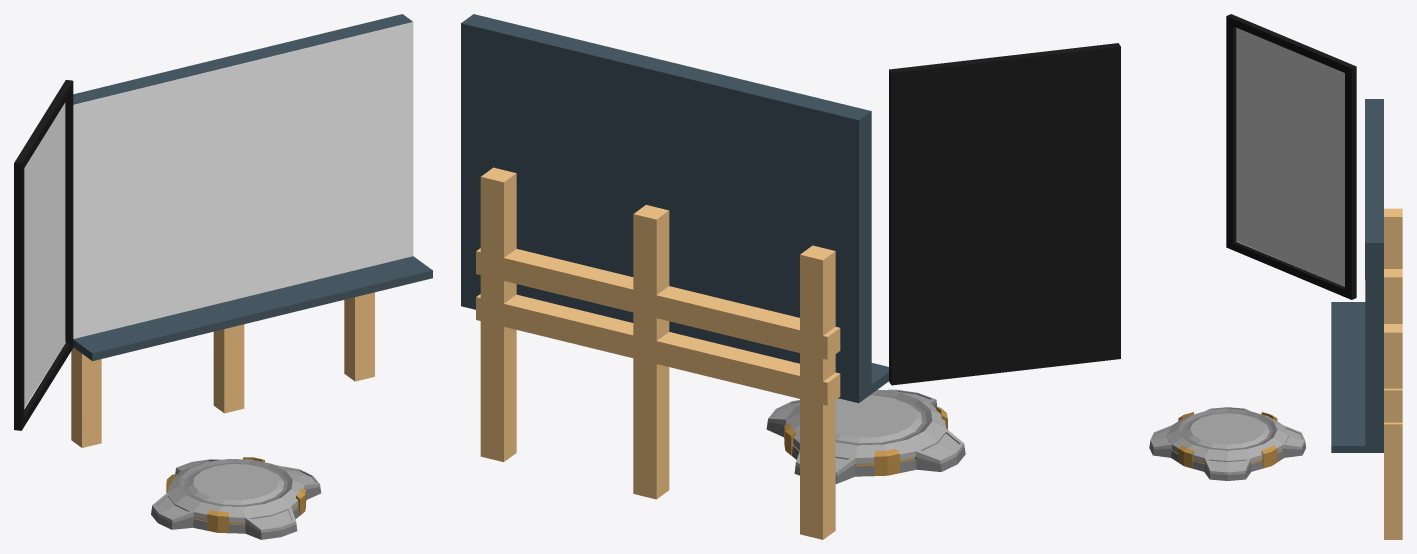
Rendered from billBoard.glb.
3 views of the same model, side by side, from view 1: azimuth 30°, elevation 25°; view 2: azimuth 150°, elevation 25°; view 3: azimuth 270°, elevation 25° (orthographic). The views are drawn at different scales.
Visible parts, largest first — view 1: billboard.001, billboard, Props_Base, billboard.002, sidescreenScreen; view 2: billboard, sidescreenScreen, Props_Base; view 3: billboard.002, billboard, Props_Base, sidescreenScreen.
Boxes of the visible parts, <box> form: billboard.001: <box>73,22,413,338</box>; billboard: <box>65,14,432,447</box>; Props_Base: <box>151,457,321,539</box>; billboard.002: <box>24,102,65,407</box>; sidescreenScreen: <box>14,80,73,430</box>; billboard: <box>461,14,888,539</box>; sidescreenScreen: <box>889,43,1120,385</box>; Props_Base: <box>766,389,965,483</box>; billboard.002: <box>1236,27,1344,286</box>; billboard: <box>1331,99,1402,539</box>; Props_Base: <box>1149,407,1305,480</box>; sidescreenScreen: <box>1226,14,1356,299</box>.
Bounding box in the file's own units: 7.16 × 5.65 × 3.8.
